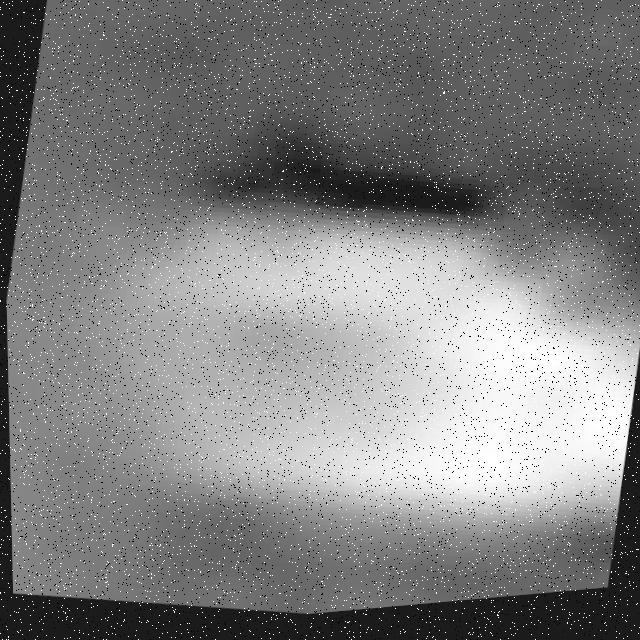person: (60, 170, 640, 634)
